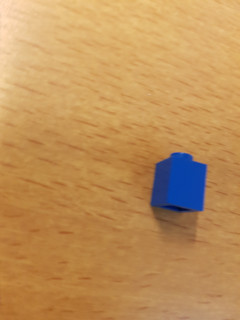1x1 blue: (148, 150, 209, 216)
